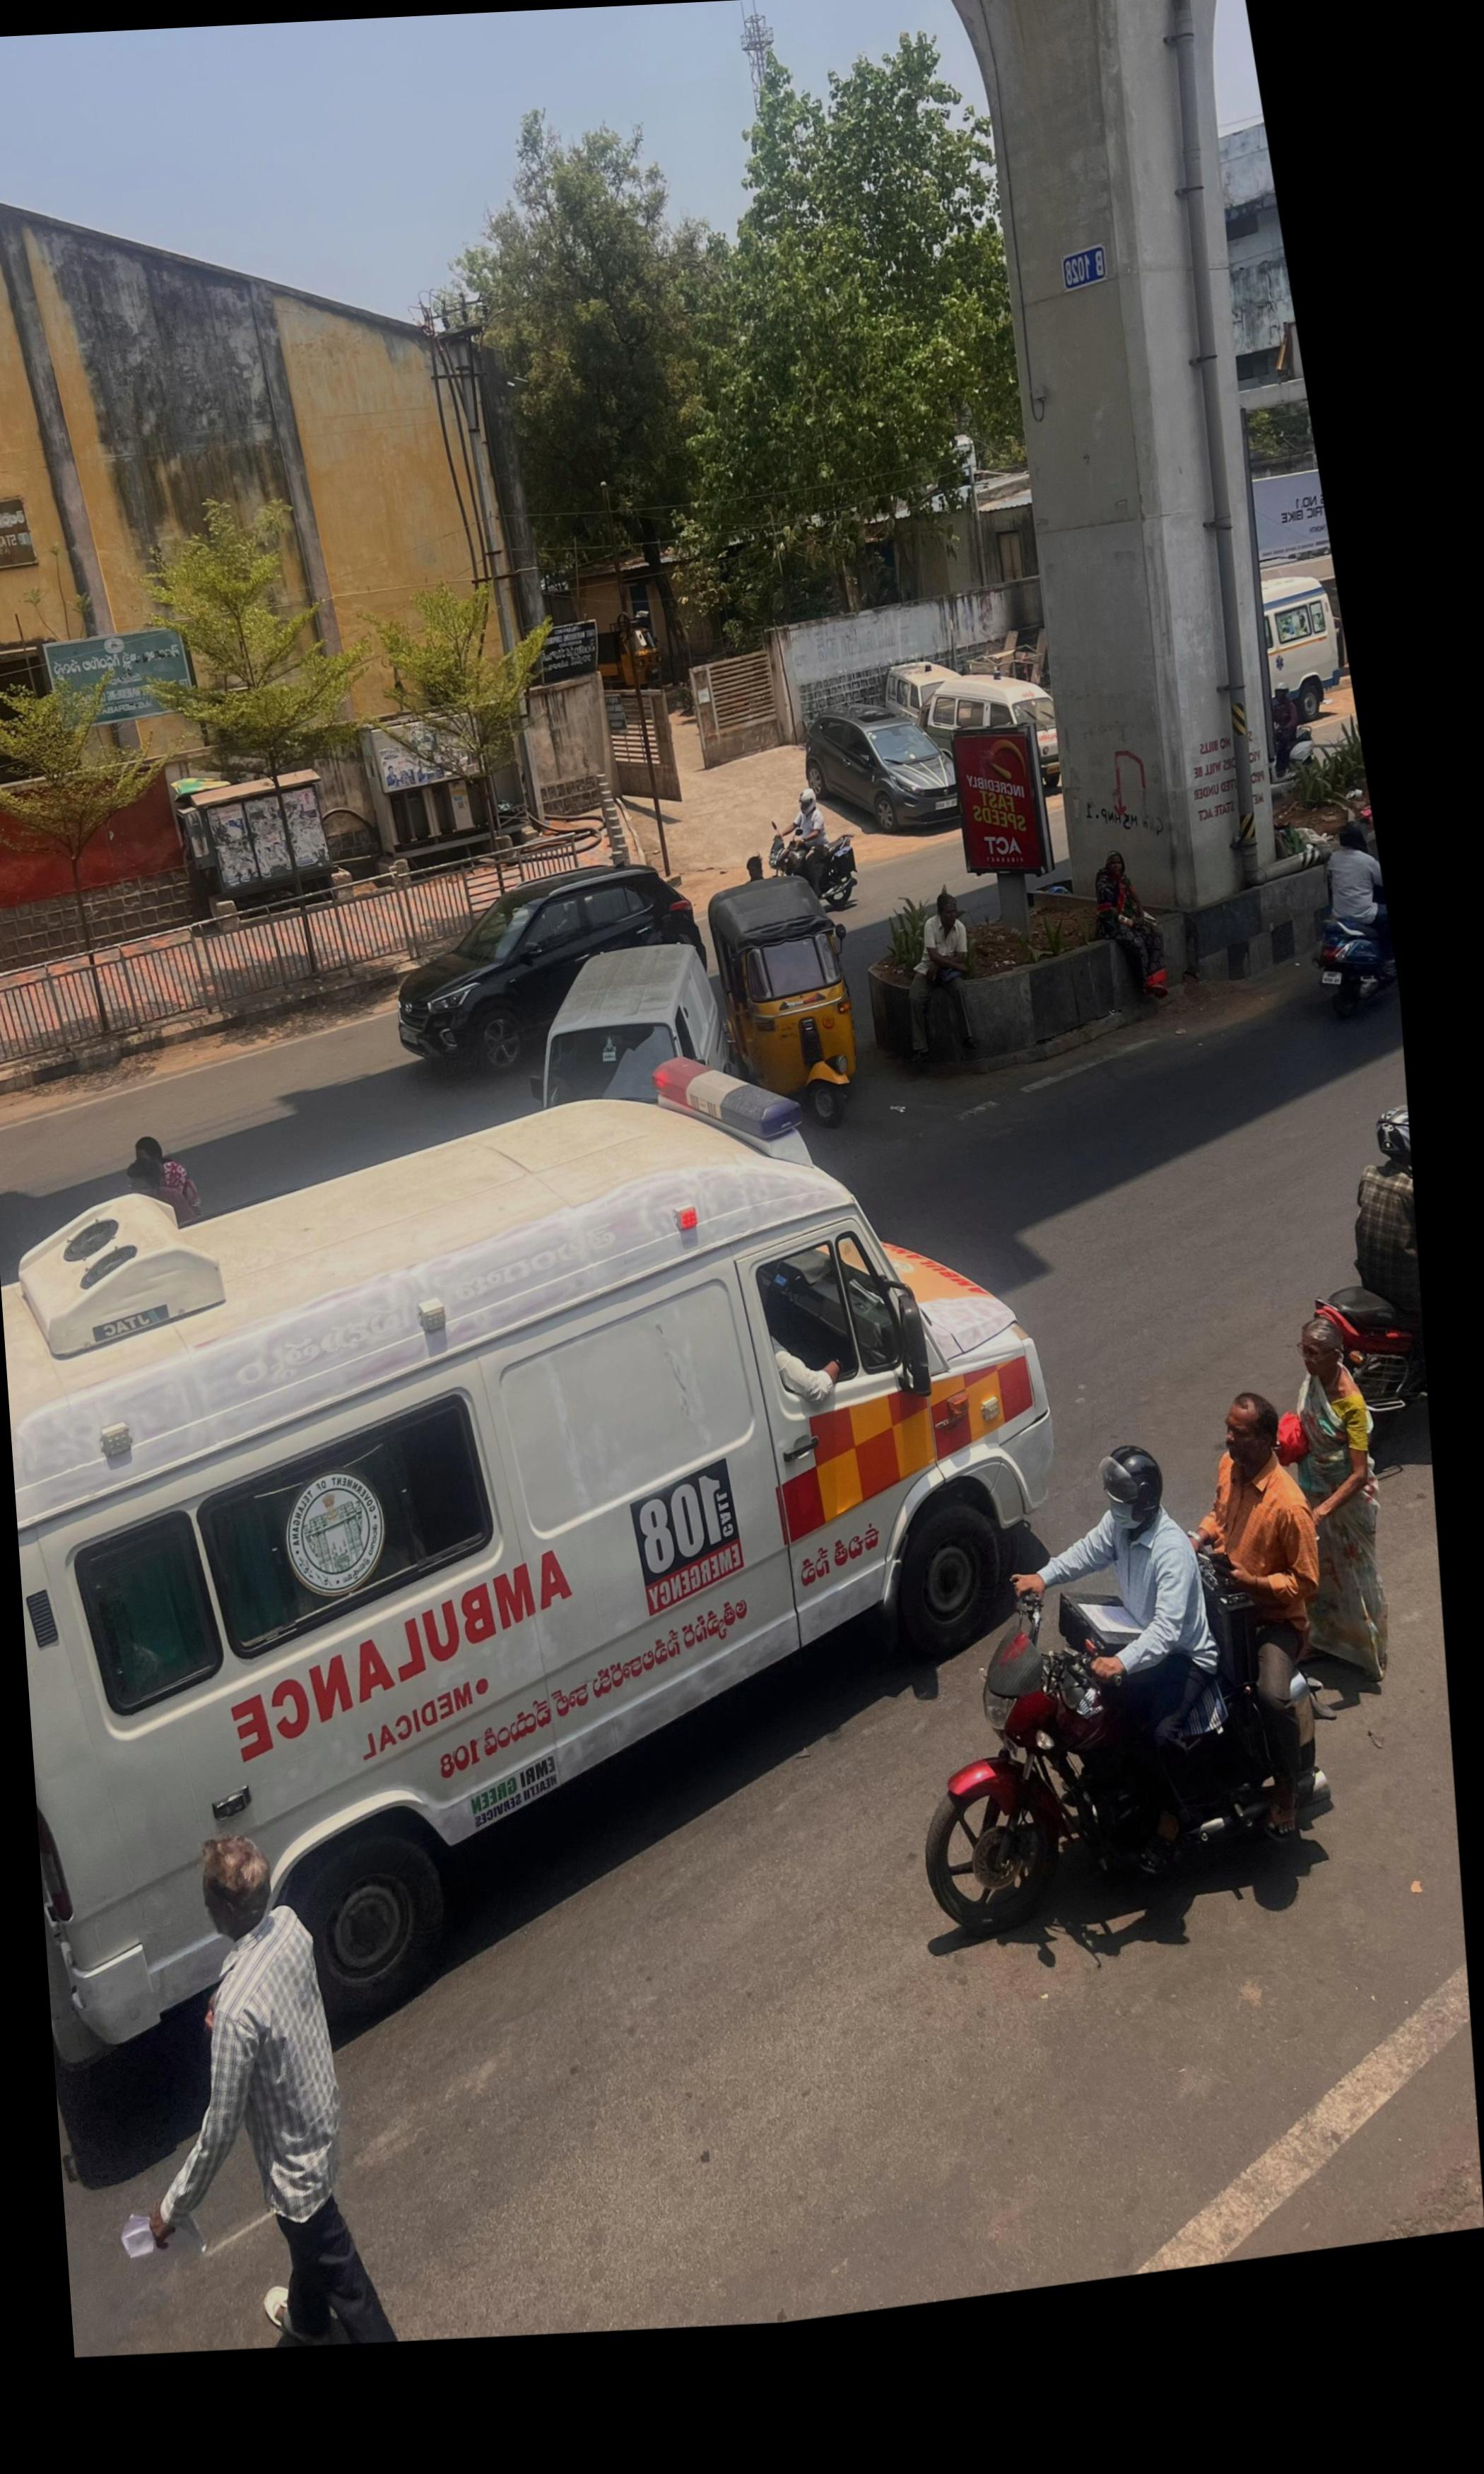ambulance: (0, 1046, 1069, 2066)
